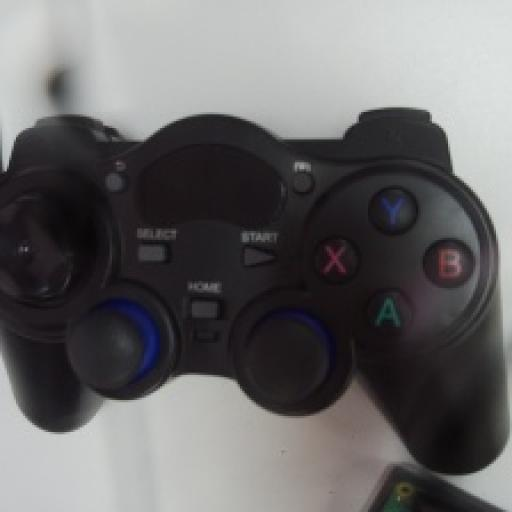game pad: (0, 114, 507, 471)
